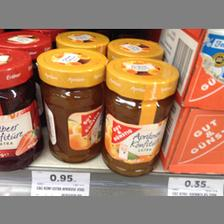Marmelade: (104, 55, 180, 177), (36, 46, 106, 162), (0, 47, 44, 171)
